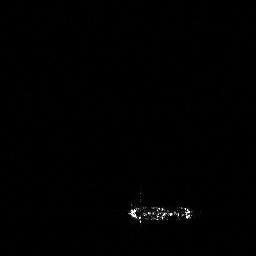ship: (121, 203, 195, 224)
